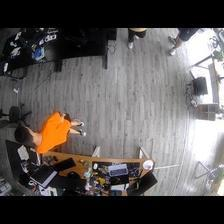normal: (13, 112, 86, 153)
